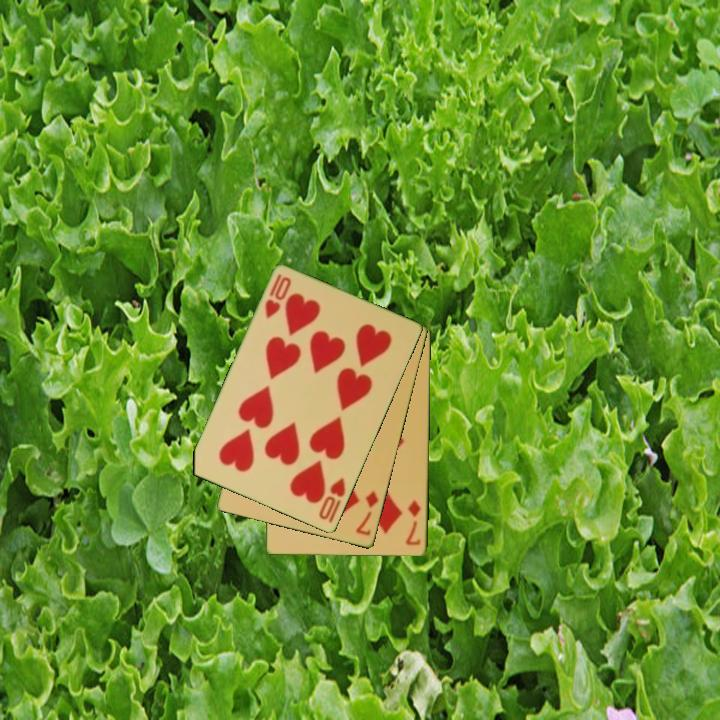10h: (315, 474, 349, 526), (262, 271, 294, 322)
7d: (352, 487, 381, 539), (403, 497, 424, 549)
